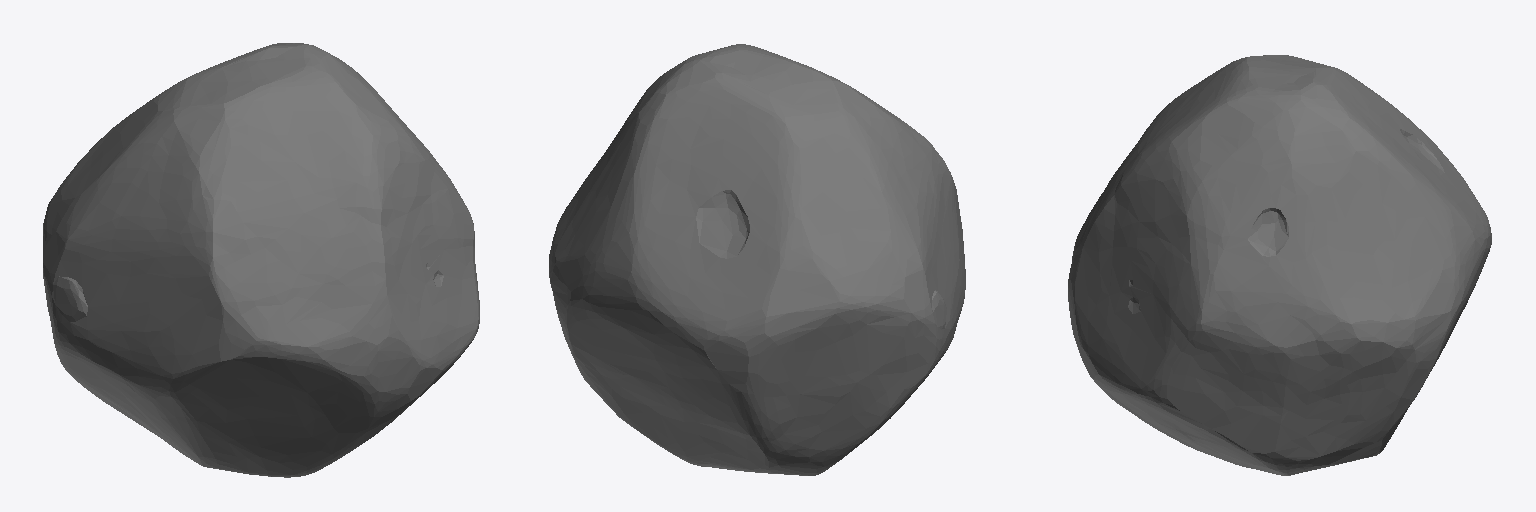
File: piedra02.obj
3 renders of one model, left to right at view 1: azimuth 30°, elevation 25°; view 2: azimuth 150°, elevation 25°; view 3: azimuth 270°, elevation 25°, orthographic.
Parts seen in each view (by area): view 1: Group47470; view 2: Group47470; view 3: Group47470.
Part boxes in pixels (x1,y1,x2,y2): Group47470: (43, 43, 479, 477); Group47470: (549, 44, 965, 475); Group47470: (1068, 55, 1491, 475).
Bounding box in the file's own units: 1.94 × 1.89 × 1.92.